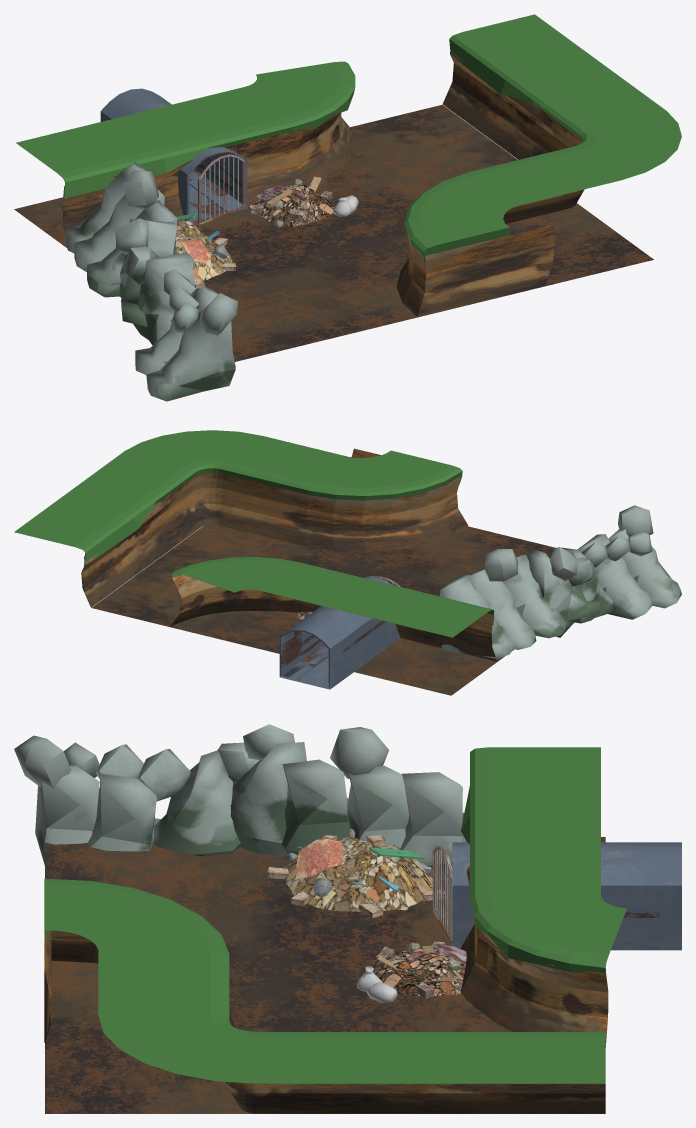
The model's file is start point.fbx.
The picture shows the model from 3 angles, top to bottom: view 1: azimuth 30°, elevation 25°; view 2: azimuth 150°, elevation 25°; view 3: azimuth 270°, elevation 25°; orthographic projection. The views are drawn at different scales.
Visible parts, largest first — view 1: Plane.002, Plane, batu, base.002, Plane.003, Plane.001, gerbang; view 2: Plane.002, Plane, batu, base.002; view 3: Plane.002, Plane, batu, base.002, Plane.001, Plane.003, gerbang, Type B.
Part boxes in pixels (left/top/right/bottom): Plane.002: left=14, top=51, right=653, bottom=361; Plane: left=16, top=14, right=681, bottom=265; batu: left=65, top=162, right=238, bottom=401; base.002: left=100, top=88, right=247, bottom=222; Plane.003: left=249, top=176, right=334, bottom=227; Plane.001: left=175, top=212, right=235, bottom=288; gerbang: left=198, top=154, right=245, bottom=225; Plane.002: left=81, top=448, right=555, bottom=695; Plane: left=14, top=430, right=494, bottom=637; batu: left=440, top=505, right=681, bottom=658; base.002: left=279, top=576, right=399, bottom=689; Plane.002: left=44, top=837, right=608, bottom=1113; Plane: left=44, top=747, right=626, bottom=1083; batu: left=14, top=724, right=466, bottom=879; base.002: left=451, top=842, right=681, bottom=950; Plane.001: left=266, top=828, right=446, bottom=917; Plane.003: left=371, top=941, right=466, bottom=998; gerbang: left=432, top=845, right=452, bottom=943; Type B: left=356, top=966, right=397, bottom=1002.
Size of the model in its own units: 101 by 22.34 by 75.18.
